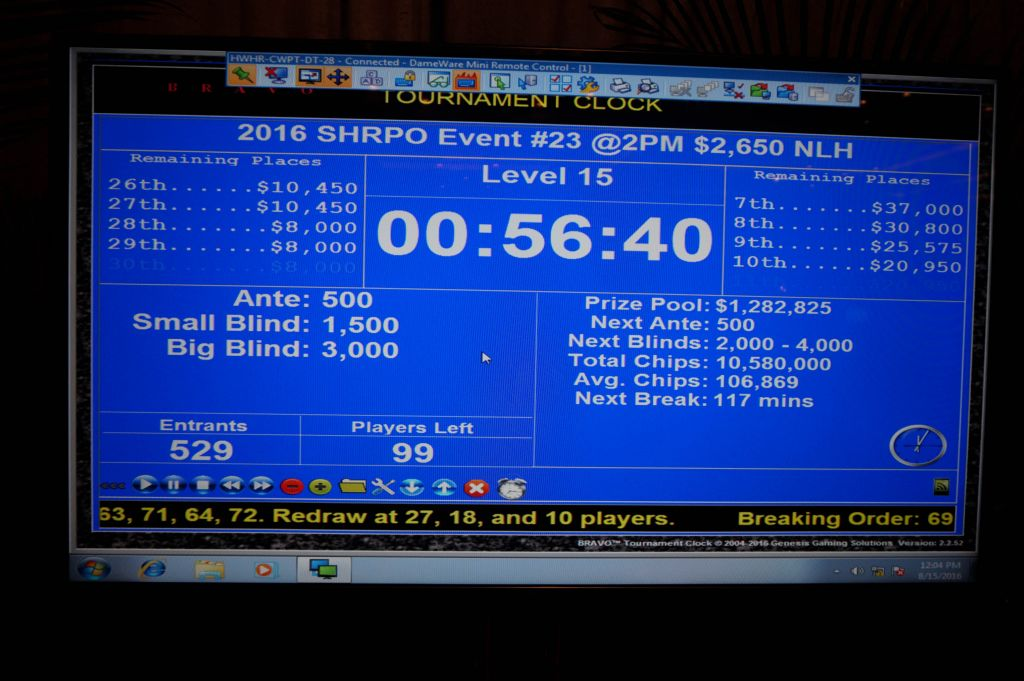PlayersLeft: (297, 413, 536, 470)
Remaining: (93, 146, 368, 290), (720, 162, 968, 300)
TournamentClock: (88, 113, 962, 473)
